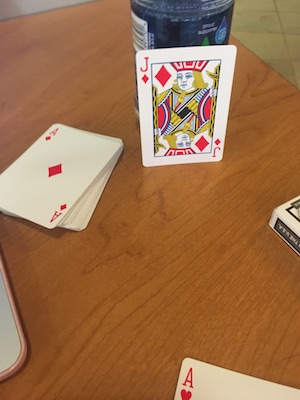AceOfDiamonds: (3, 119, 127, 238)
AceOfHearts: (157, 352, 300, 400)
JackOfDiamonds: (127, 43, 237, 179)
